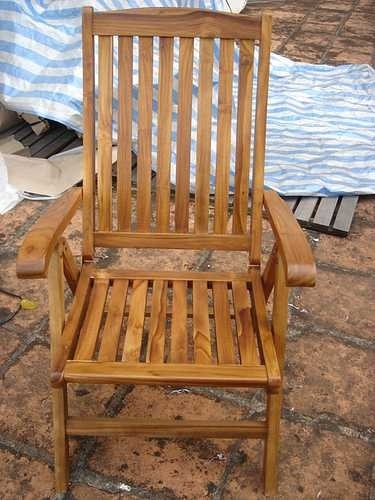obstacle: (17, 7, 315, 494)
